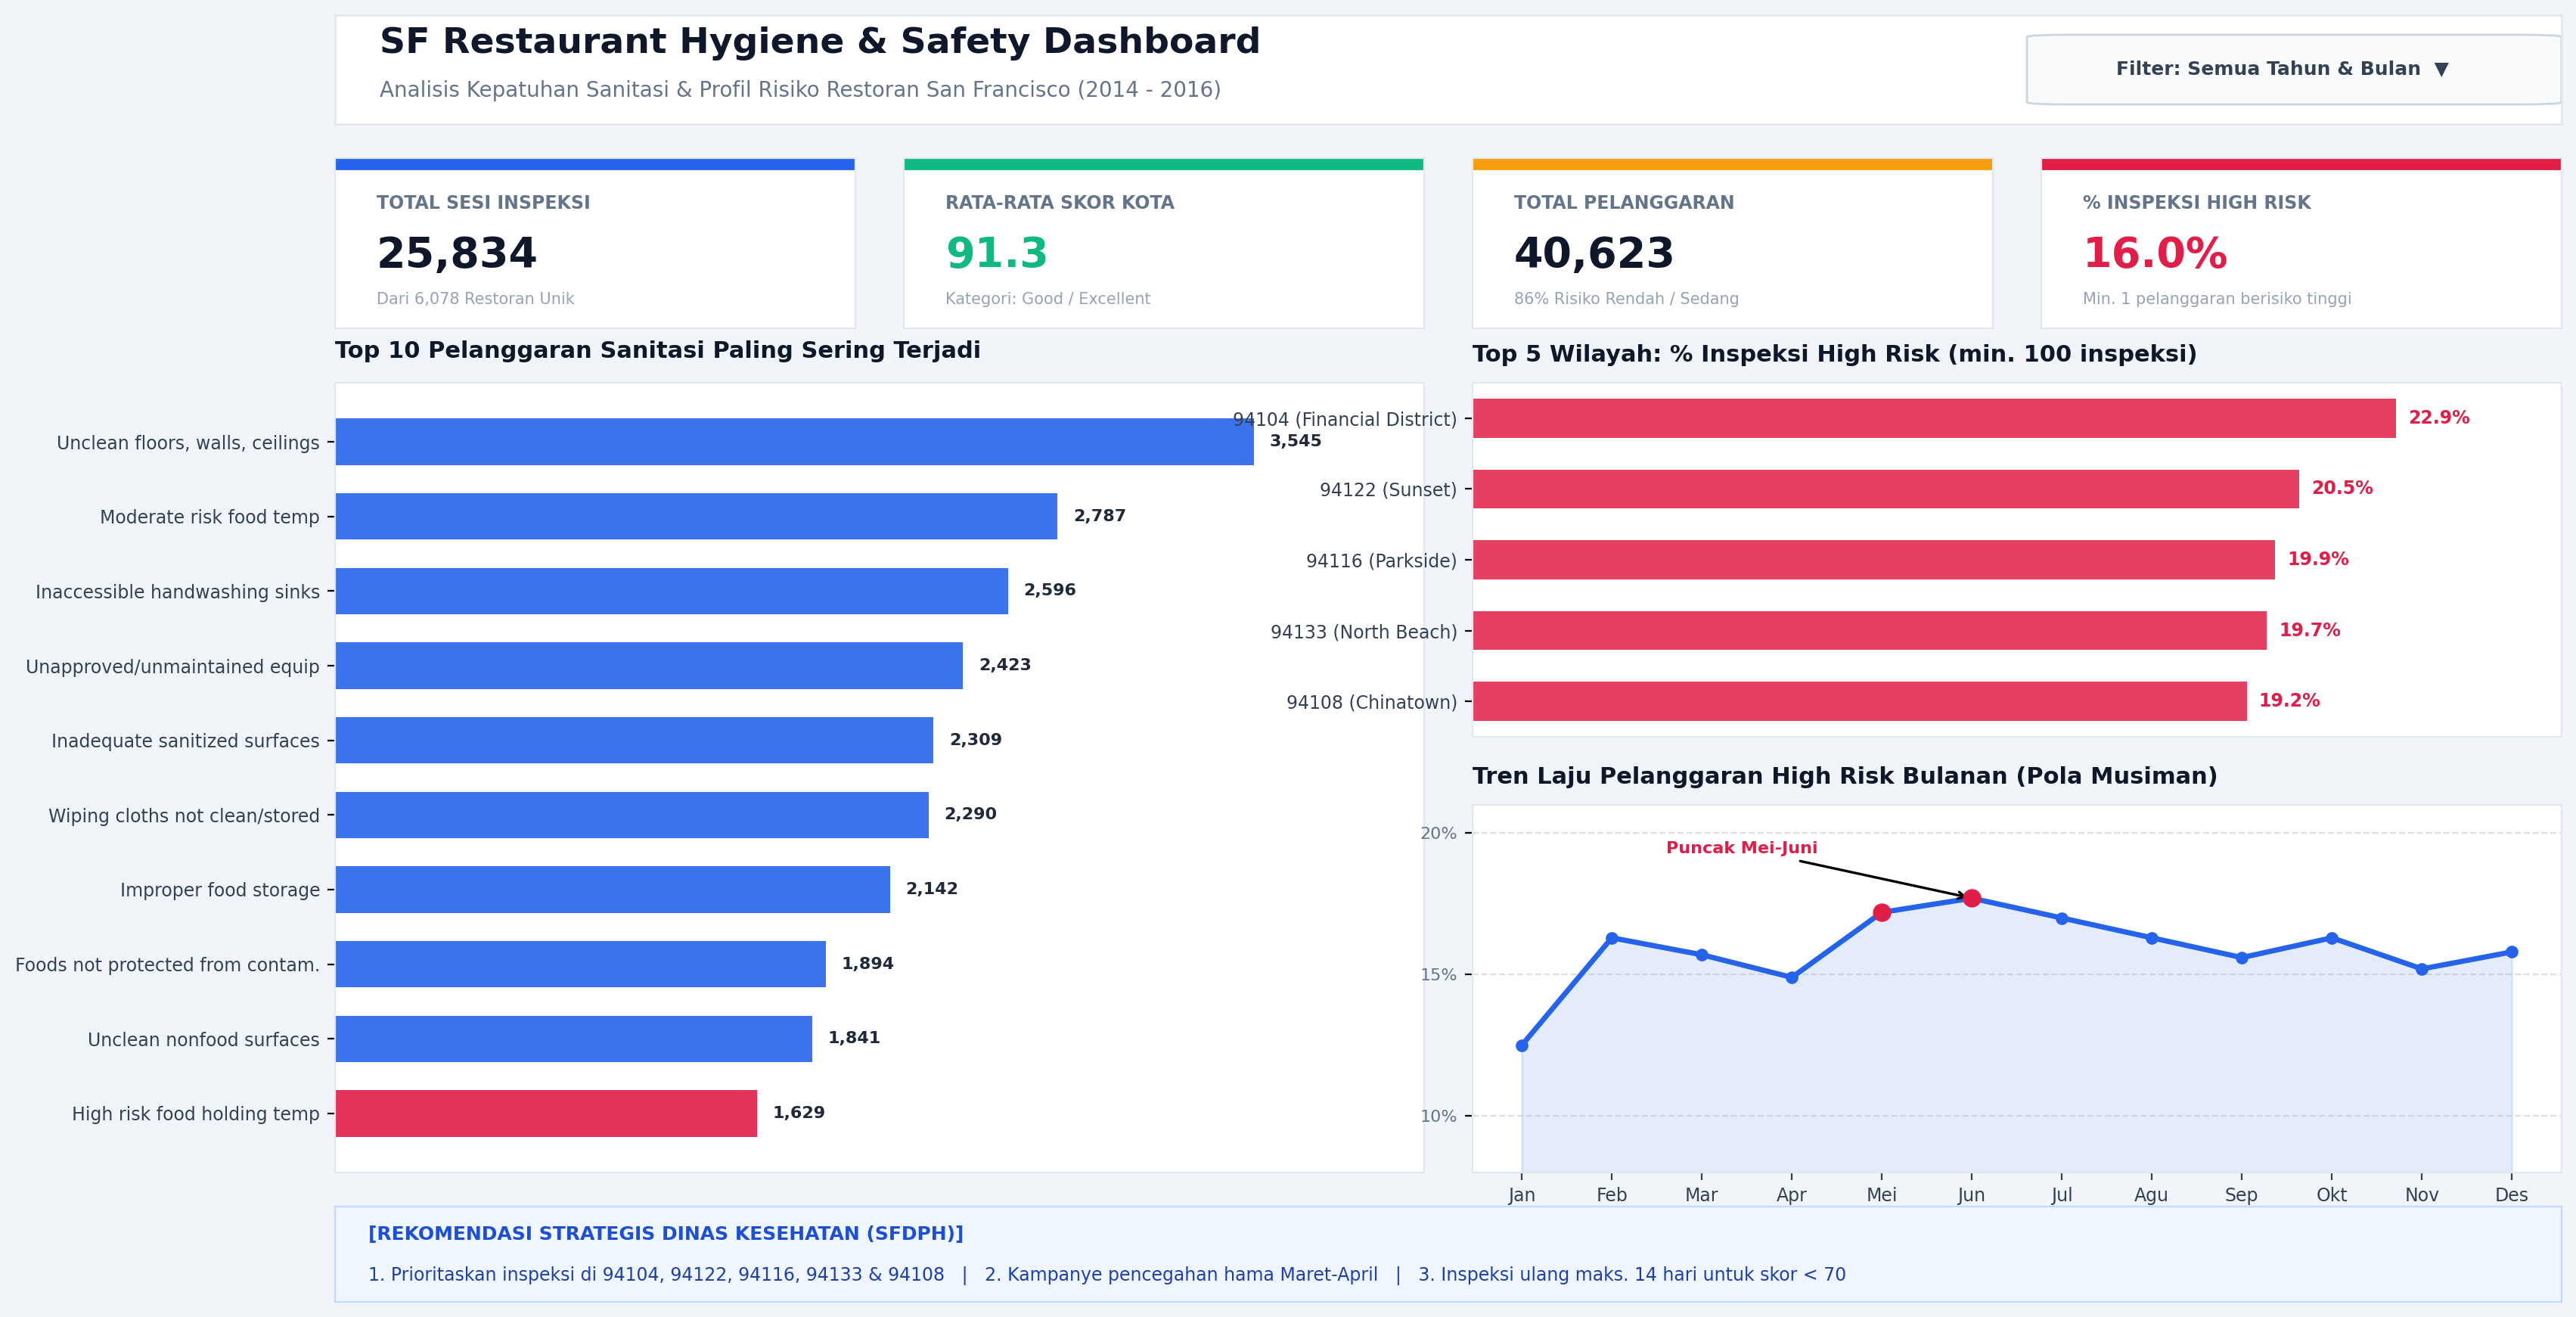

Layout of this report page (visuals, bound fields, positions):
{"tool":"powerbi","page":{"name":"Page 1","canvas":[1920,1080],"ordinal":0},"visuals":[{"type":"textbox","box":[31.6,0,1215.7,155.7],"z":0},{"type":"cardVisual","title":"Total Inspections","fields":{"Data":["Count(sf_inspections_summary.inspection_id)"]},"box":[64.8,174.1,374,155],"z":1000},{"type":"cardVisual","title":"Average Hygiene Score","fields":{"Data":["Avg(sf_inspections_summary.inspection_score)"]},"box":[520.4,174.1,374.4,155.8],"z":2000},{"type":"cardVisual","title":"Total Violations Recorded","fields":{"Data":["Sum(sf_inspections_summary.total_violations)"]},"box":[1000,173.3,374,155],"z":3000},{"type":"cardVisual","title":"High-Risk Violation Rate","fields":{"Data":["_Measure.% High Risk Rate"]},"box":[1468.5,174.1,374,155],"z":4000},{"type":"slicer","title":"Select Inspection Period","fields":{"Values":["sf_inspections_summary.inspection_year_month"]},"box":[1278.5,78.5,564.6,63.1],"z":5000},{"type":"clusteredBarChart","title":"Top 10 Sanitation Violations by Occurrence","fields":{"Category":["sf_restaurant_inspections_cleaned.violation_description"],"Y":["CountNonNull(sf_restaurant_inspections_cleaned.violation_id)"]},"box":[64.3,380.4,717.9,658.9],"z":6000},{"type":"clusteredBarChart","title":"High-Risk Exposure by District","fields":{"Category":["sf_inspections_summary.neighborhood"],"Y":["_Measure.% High Risk Rate"]},"box":[817.9,380.4,1024.1,322.2],"z":7000},{"type":"lineChart","title":"Monthly High-Risk Trend & Seasonality","fields":{"Category":["sf_inspections_summary.inspection_date.Variation.Date Hierarchy.Month"],"Y":["_Measure.% High Risk Rate"]},"box":[818.5,735.2,1024.1,303.7],"z":8000}]}

Visuals, with their boxes on the page's 1920x1080 design canvas (x1, y1, x2, y2). These are canvas units, not pixel positions in the 2576x1317 screenshot, which may show the page scaled, cropped or inside an application window:
textbox: x1=32 y1=0 x2=1247 y2=156
"Total Inspections" cardVisual: x1=65 y1=174 x2=439 y2=329
"Average Hygiene Score" cardVisual: x1=520 y1=174 x2=895 y2=330
"Total Violations Recorded" cardVisual: x1=1000 y1=173 x2=1374 y2=328
"High-Risk Violation Rate" cardVisual: x1=1468 y1=174 x2=1842 y2=329
"Select Inspection Period" slicer: x1=1278 y1=78 x2=1843 y2=142
"Top 10 Sanitation Violations by Occurrence" clusteredBarChart: x1=64 y1=380 x2=782 y2=1039
"High-Risk Exposure by District" clusteredBarChart: x1=818 y1=380 x2=1842 y2=703
"Monthly High-Risk Trend & Seasonality" lineChart: x1=818 y1=735 x2=1843 y2=1039
